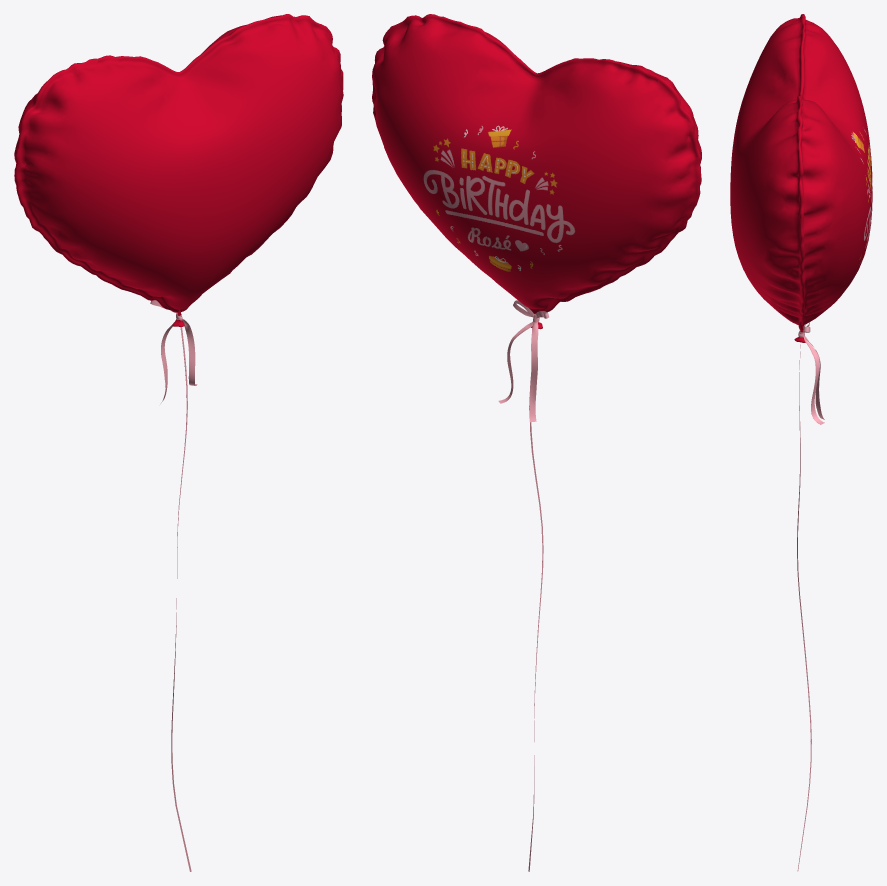
File: red_baloon2.glb
3 views of the same model, side by side, from view 1: azimuth 30°, elevation 25°; view 2: azimuth 150°, elevation 25°; view 3: azimuth 270°, elevation 25° (orthographic). The views are drawn at different scales.
Visible parts, largest first — view 1: Love_Baloon.001; view 2: Love_Baloon.001; view 3: Love_Baloon.001.
Boxes of the visible parts, left/top/right/bottom form: Love_Baloon.001: left=14, top=14, right=343, bottom=871; Love_Baloon.001: left=372, top=14, right=701, bottom=871; Love_Baloon.001: left=730, top=14, right=872, bottom=871.
Bounding box in the file's own units: 1.51 × 3.65 × 0.5883.
1 material, 1 textured.
